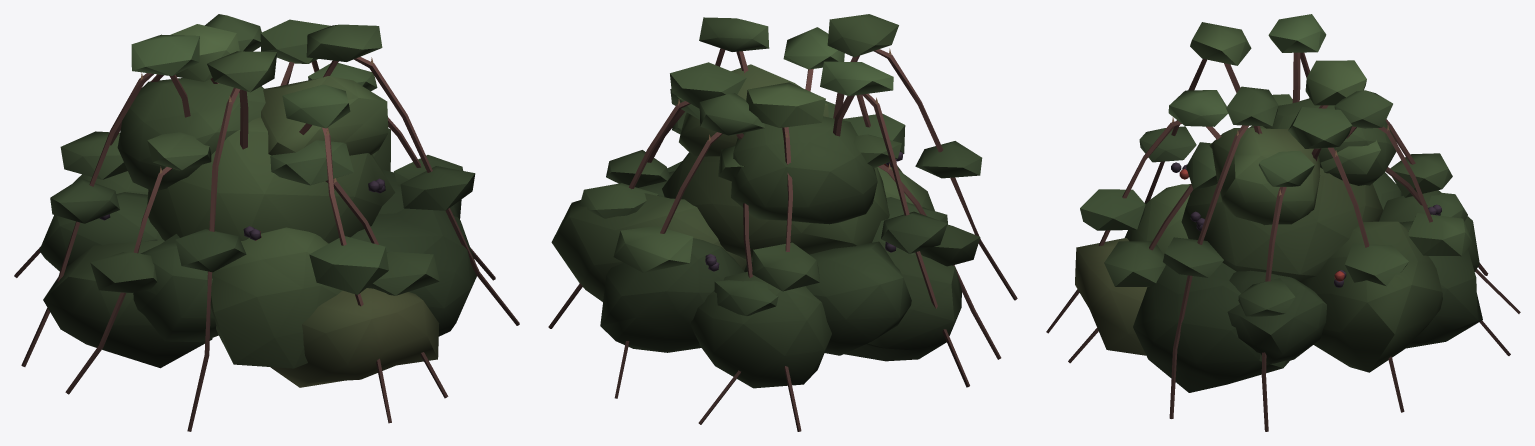
The model's file is ph_env_bramble.glb.
The picture shows the model from 3 angles, left to right: view 1: azimuth 30°, elevation 25°; view 2: azimuth 150°, elevation 25°; view 3: azimuth 270°, elevation 25°; orthographic projection. The views are drawn at different scales.
Visible parts, largest first — view 1: ph_env_bramble; view 2: ph_env_bramble; view 3: ph_env_bramble.
Part boxes in pixels (x1,y1,x2,y2): ph_env_bramble: (14, 14, 519, 431); ph_env_bramble: (548, 14, 1017, 431); ph_env_bramble: (1046, 14, 1520, 431).
Bounding box in the file's own units: 1.88 × 1.31 × 1.92.
